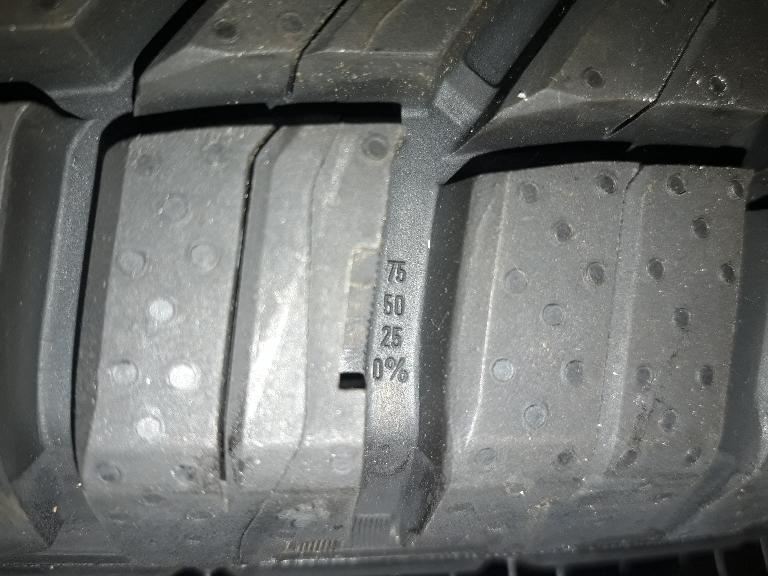temoin:100: (334, 216, 390, 396)
